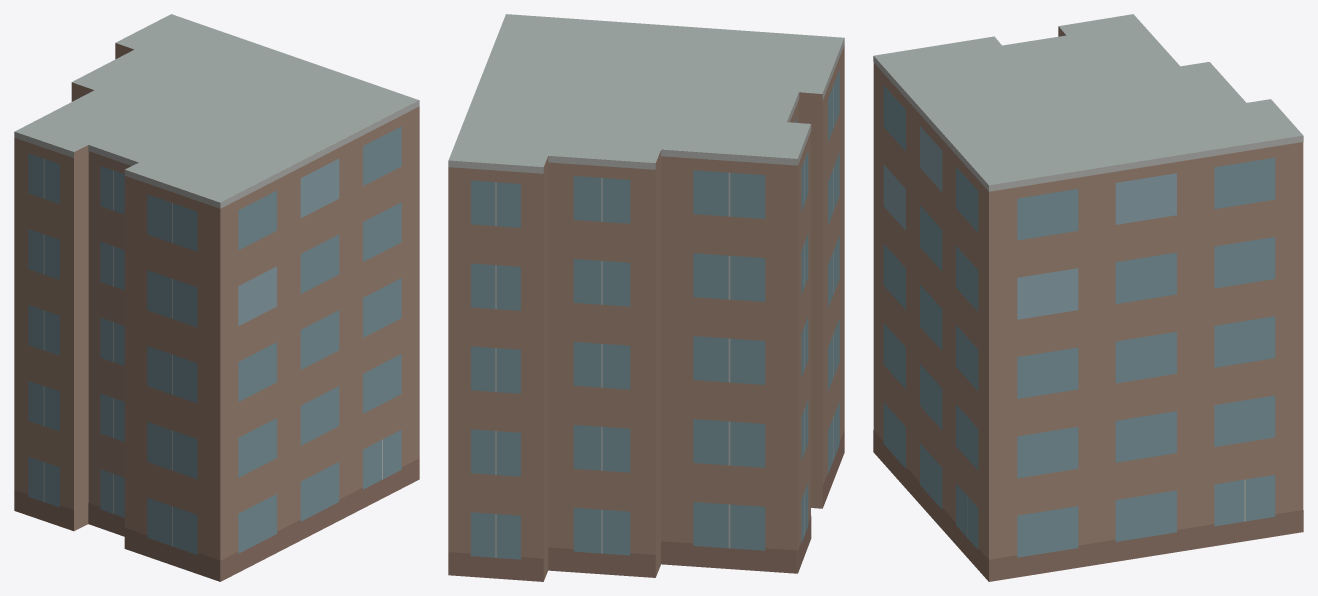
The model's file is survey-upis-32999398.glb.
3 renders of one model, left to right at view 1: azimuth 30°, elevation 25°; view 2: azimuth 150°, elevation 25°; view 3: azimuth 270°, elevation 25°, orthographic. The views are drawn at different scales.
Parts seen in each view (by area): view 1: survey-upis-32999398.tmp; view 2: survey-upis-32999398.tmp; view 3: survey-upis-32999398.tmp.
Part boxes in pixels (x1=…): survey-upis-32999398.tmp: x1=14, y1=14, x2=419, y2=581; survey-upis-32999398.tmp: x1=448, y1=14, x2=844, y2=581; survey-upis-32999398.tmp: x1=873, y1=14, x2=1303, y2=581.
Size of the model in its own units: 14.15 by 15.25 by 15.
